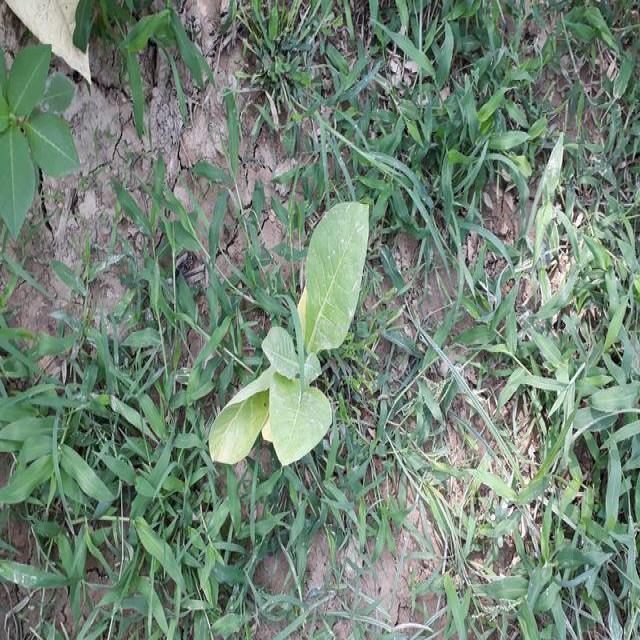crop: (202, 188, 378, 477)
